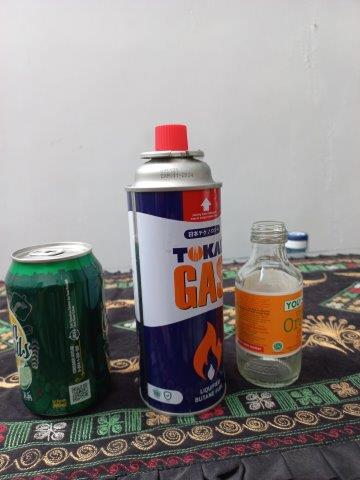botolkaca: (236, 222, 303, 389)
kaleng: (124, 124, 228, 416), (5, 242, 111, 418)
